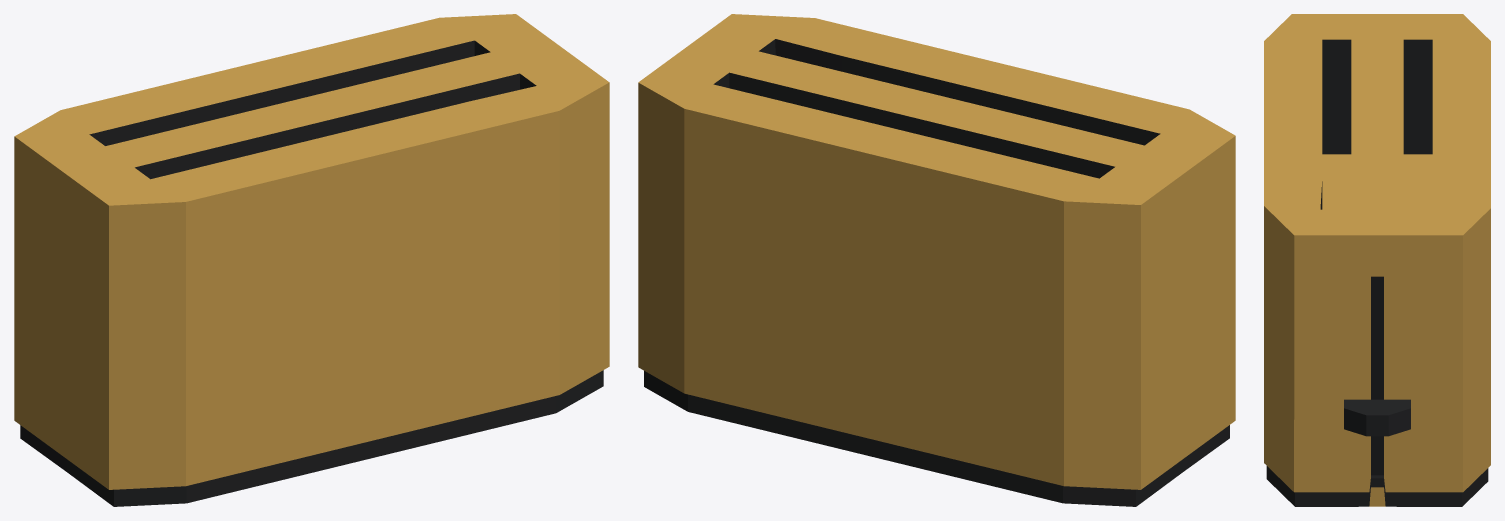
The model's file is toaster_01_D.gltf.
3 views of the same model, side by side, from view 1: azimuth 30°, elevation 25°; view 2: azimuth 150°, elevation 25°; view 3: azimuth 270°, elevation 25° (orthographic). The views are drawn at different scales.
Visible parts, largest first — view 1: toaster_01_D; view 2: toaster_01_D; view 3: toaster_01_D, Switchfortoaster_01_D.
Boxes of the visible parts, box(x1,y1,x2,y2) form: toaster_01_D: box(14, 14, 609, 506); toaster_01_D: box(638, 14, 1235, 506); toaster_01_D: box(1264, 14, 1490, 506); Switchfortoaster_01_D: box(1344, 399, 1410, 436).
Size of the model in its own units: 0.371 by 0.2 by 0.15.
1 material, 1 textured.
